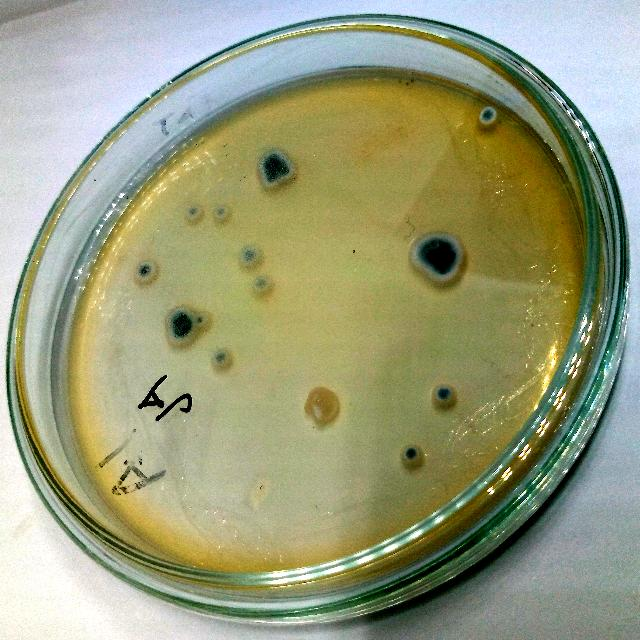colony: (410, 228, 470, 288), (299, 384, 345, 432), (258, 150, 296, 188), (165, 306, 198, 346), (428, 380, 459, 410), (396, 441, 426, 471), (131, 260, 161, 286), (474, 102, 501, 130), (237, 244, 263, 270), (208, 346, 234, 370), (250, 272, 274, 298), (191, 310, 209, 330), (182, 203, 204, 219), (212, 204, 228, 218)
